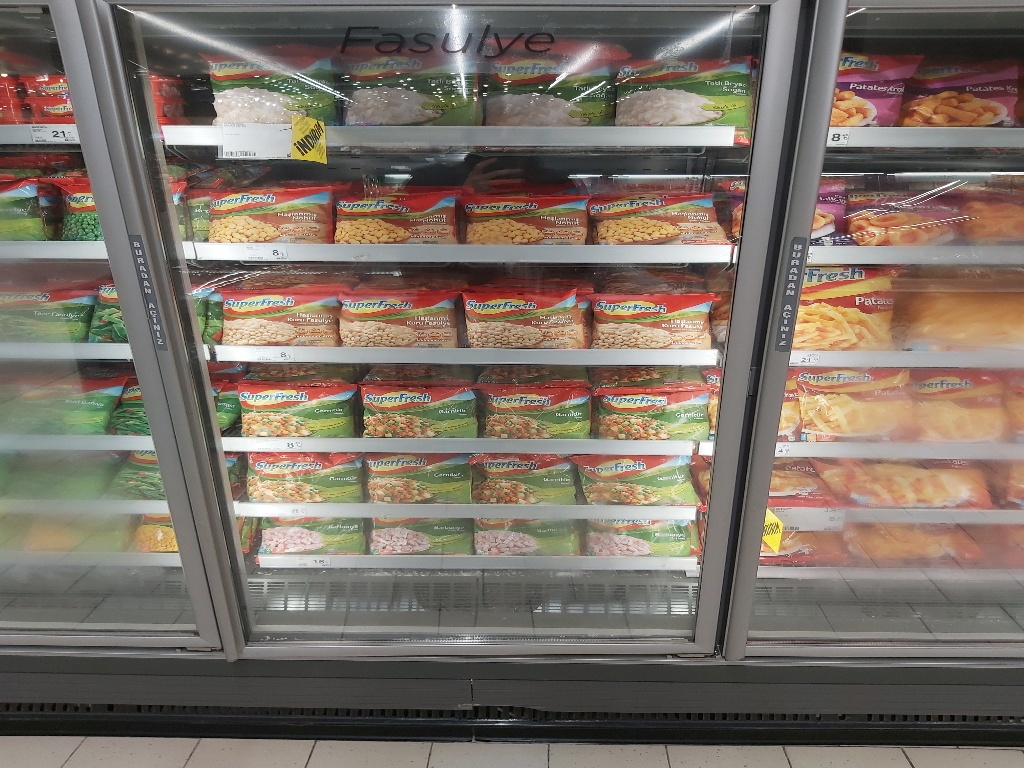urun: (339, 32, 481, 127), (474, 29, 616, 124), (614, 49, 767, 136), (584, 279, 723, 355), (198, 278, 338, 353), (454, 282, 594, 357), (324, 278, 463, 353), (184, 173, 335, 242), (310, 174, 461, 243), (590, 183, 736, 242), (451, 183, 596, 242), (470, 376, 604, 435), (594, 380, 728, 439), (225, 380, 361, 435), (348, 379, 484, 434), (243, 449, 364, 503), (462, 448, 582, 502), (579, 454, 699, 508), (252, 507, 372, 561), (362, 451, 483, 504), (364, 518, 476, 562), (474, 513, 586, 557), (582, 515, 695, 558)
urun2: (197, 32, 339, 127)
